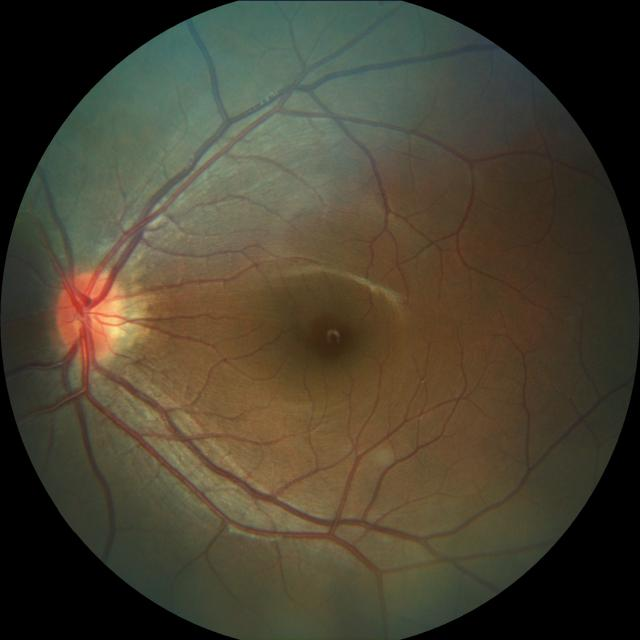OC: (70, 290, 110, 336)
OD: (57, 268, 127, 360)
